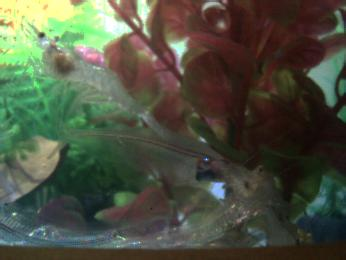glassfish: (46, 111, 237, 184), (1, 198, 150, 247)
siberian prawn: (33, 28, 149, 114), (231, 167, 301, 248)
